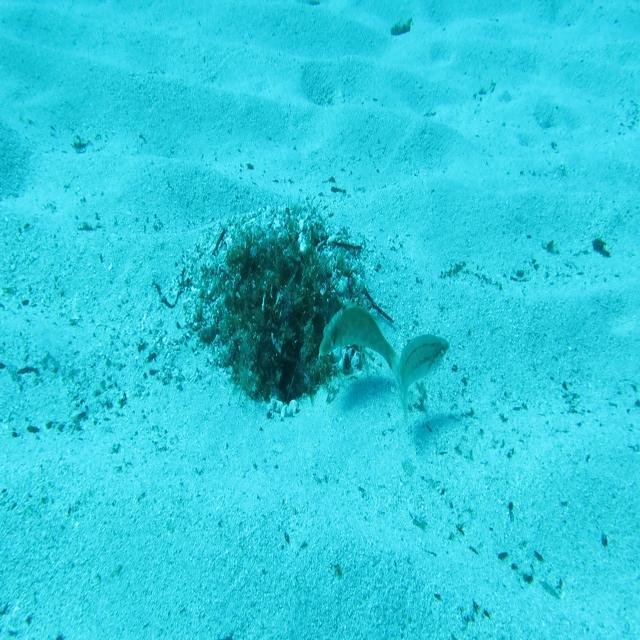BEND: (319, 294, 401, 379)
core_nest: (252, 247, 306, 286)
female: (396, 332, 453, 431)
nest: (177, 192, 385, 434)
vegetation: (389, 17, 413, 37)
